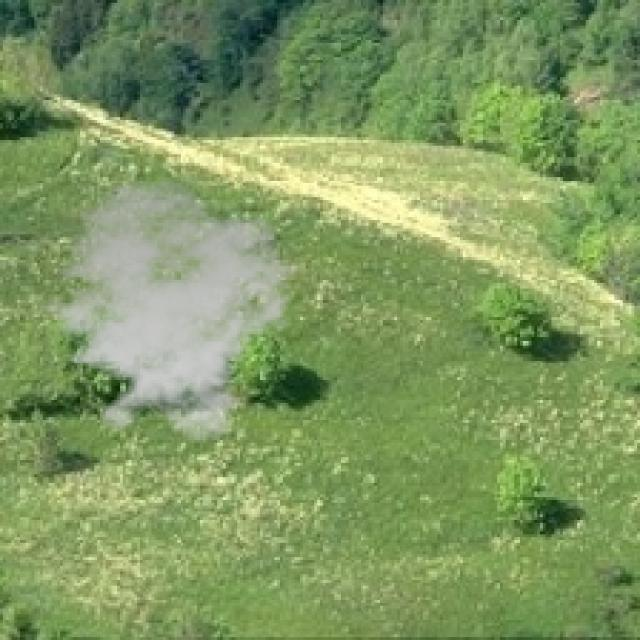smoke: (23, 177, 303, 446)
